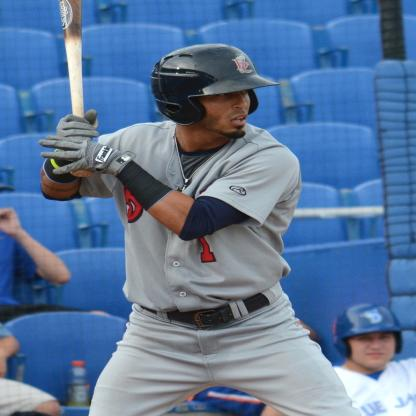Helmet: (149, 43, 274, 133), (335, 304, 405, 369)
